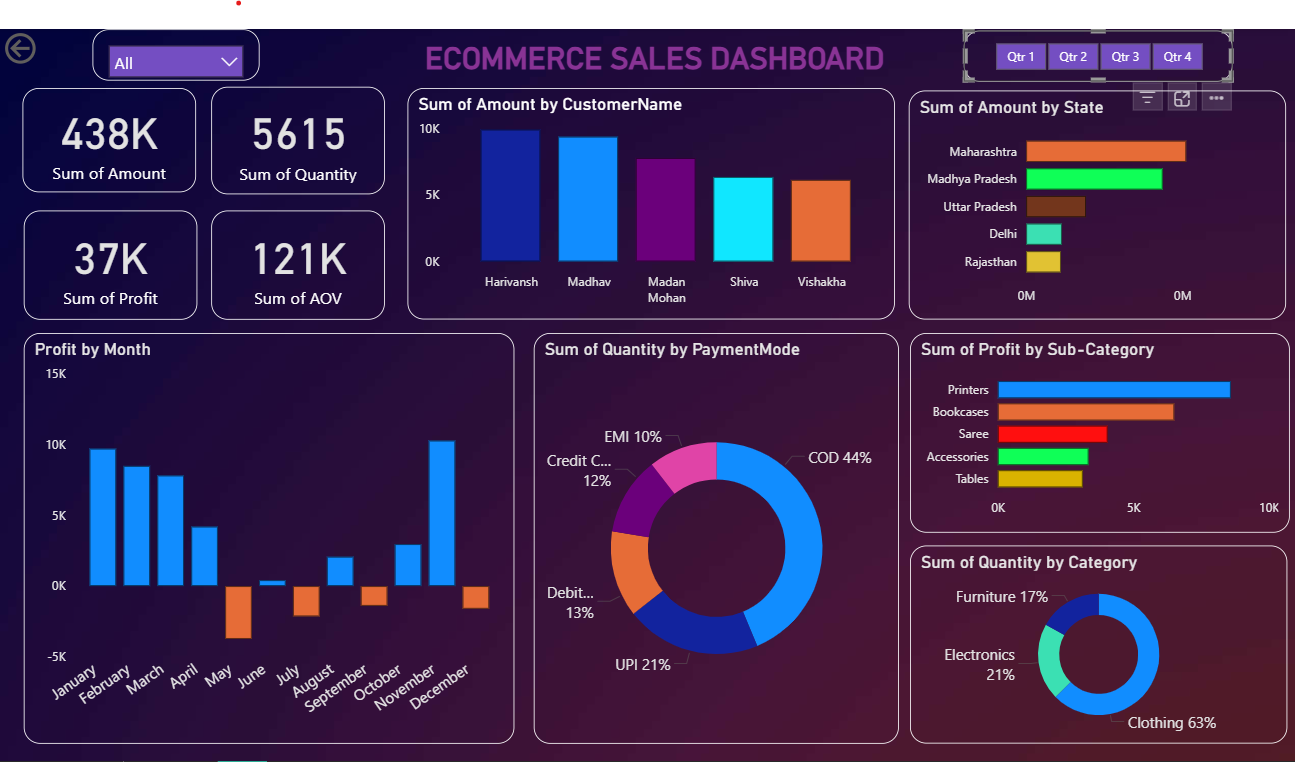

What the dashboard file says about the page in this screenshot:
{"tool":"powerbi","page":{"name":"Page 1","canvas":[1280,720],"ordinal":0},"visuals":[{"type":"textbox","title":"ECOMMERCE SALES DASHBOARD","box":[412.3,12.3,499.4,39.3],"z":0},{"type":"columnChart","title":"Profit by Month","fields":{"Y":["Details.Profit"],"Category":["Orders.Order Date.Variation.Date Hierarchy.Month"]},"box":[22.9,300,481.4,402.9],"z":1000},{"type":"barChart","fields":{"Category":["Details.Sub-Category"],"Y":["Details.Profit"]},"box":[892.9,300,372.9,195.7],"z":2000},{"type":"donutChart","fields":{"Y":["Details.Quantity"],"Series":["Details.Category"]},"box":[892.9,508.6,370,194.3],"z":3000},{"type":"donutChart","fields":{"Category":["Details.PaymentMode"],"Y":["Details.Quantity"]},"box":[524.3,300,358.6,402.9],"z":4000},{"type":"card","fields":{"Values":["Details.Amount"]},"box":[22.5,58.8,170,102.5],"z":5000},{"type":"card","fields":{"Values":["Details.Quantity"]},"box":[207.1,57.1,170,105.7],"z":6000},{"type":"card","fields":{"Values":["Details.Profit"]},"box":[22.9,178.6,170,107.1],"z":7000},{"type":"card","fields":{"Values":["Details.AOV"]},"box":[207.1,178.6,170,107.1],"z":8000},{"type":"actionButton","box":[0,0,100,40],"z":9000},{"type":"barChart","fields":{"Category":["Orders.State"],"Y":["Details.Amount"]},"box":[892.5,61.2,370,225],"z":10000},{"type":"columnChart","fields":{"Category":["Orders.CustomerName"],"Y":["Details.Amount"]},"box":[400,58.6,478.6,227.1],"z":11000},{"type":"slicer","fields":{"Values":["Orders.Order Date.Variation.Date Hierarchy.Quarter"]},"box":[945.7,2.9,264.3,50],"z":12000},{"type":"slicer","fields":{"Values":["Orders.State"]},"box":[90.7,1.3,164,50.7],"z":13000}]}

Visuals, with their boxes on the page's 1280x720 design canvas (x1, y1, x2, y2). These are canvas units, not pixel positions in the 1295x762 screenshot, which may show the page scaled, cropped or inside an application window:
"ECOMMERCE SALES DASHBOARD" textbox: x1=412, y1=12, x2=912, y2=52
"Profit by Month" columnChart: x1=23, y1=300, x2=504, y2=703
barChart - Details.Sub-Category x Details.Profit: x1=893, y1=300, x2=1266, y2=496
donutChart - Details.Quantity x Details.Category: x1=893, y1=509, x2=1263, y2=703
donutChart - Details.PaymentMode x Details.Quantity: x1=524, y1=300, x2=883, y2=703
card - Details.Amount: x1=22, y1=59, x2=192, y2=161
card - Details.Quantity: x1=207, y1=57, x2=377, y2=163
card - Details.Profit: x1=23, y1=179, x2=193, y2=286
card - Details.AOV: x1=207, y1=179, x2=377, y2=286
actionButton: x1=0, y1=0, x2=100, y2=40
barChart - Orders.State x Details.Amount: x1=892, y1=61, x2=1262, y2=286
columnChart - Orders.CustomerName x Details.Amount: x1=400, y1=59, x2=879, y2=286
slicer - Orders.Order Date.Variation.Date Hierarchy.Quarter: x1=946, y1=3, x2=1210, y2=53
slicer - Orders.State: x1=91, y1=1, x2=255, y2=52
